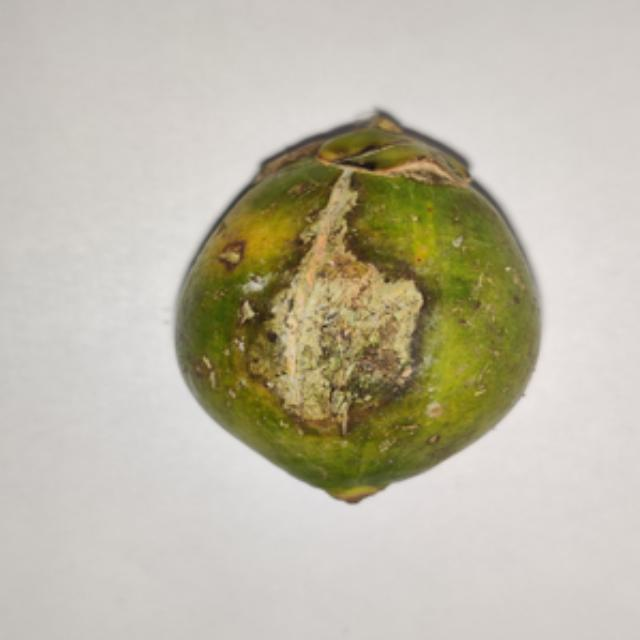damaged: (173, 109, 542, 507)
